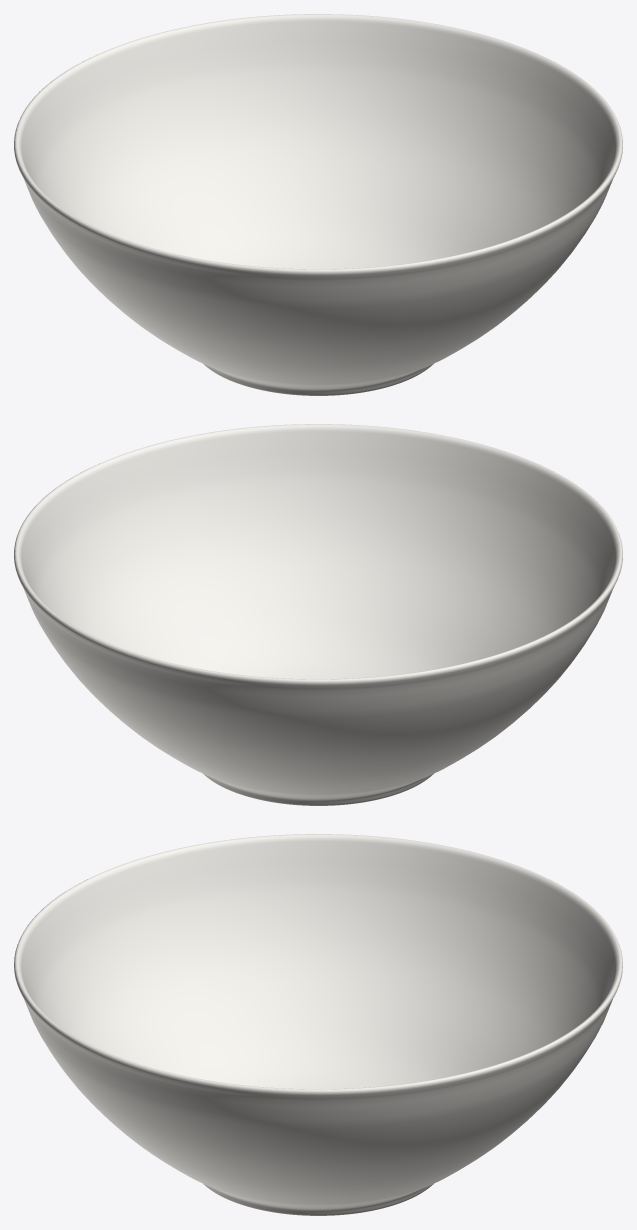
The model's file is white-bowl.glb.
The picture shows the model from 3 angles, top to bottom: view 1: azimuth 30°, elevation 25°; view 2: azimuth 150°, elevation 25°; view 3: azimuth 270°, elevation 25°; orthographic projection.
Visible parts, largest first — view 1: white-bowl; view 2: white-bowl; view 3: white-bowl.
Part boxes in pixels (x1,y1,x2,y2): white-bowl: [14, 14, 622, 395]; white-bowl: [14, 424, 622, 805]; white-bowl: [14, 834, 622, 1215].
Bounding box in the file's own units: 0.2103 × 0.0771 × 0.2103.
1 material, 1 textured.
